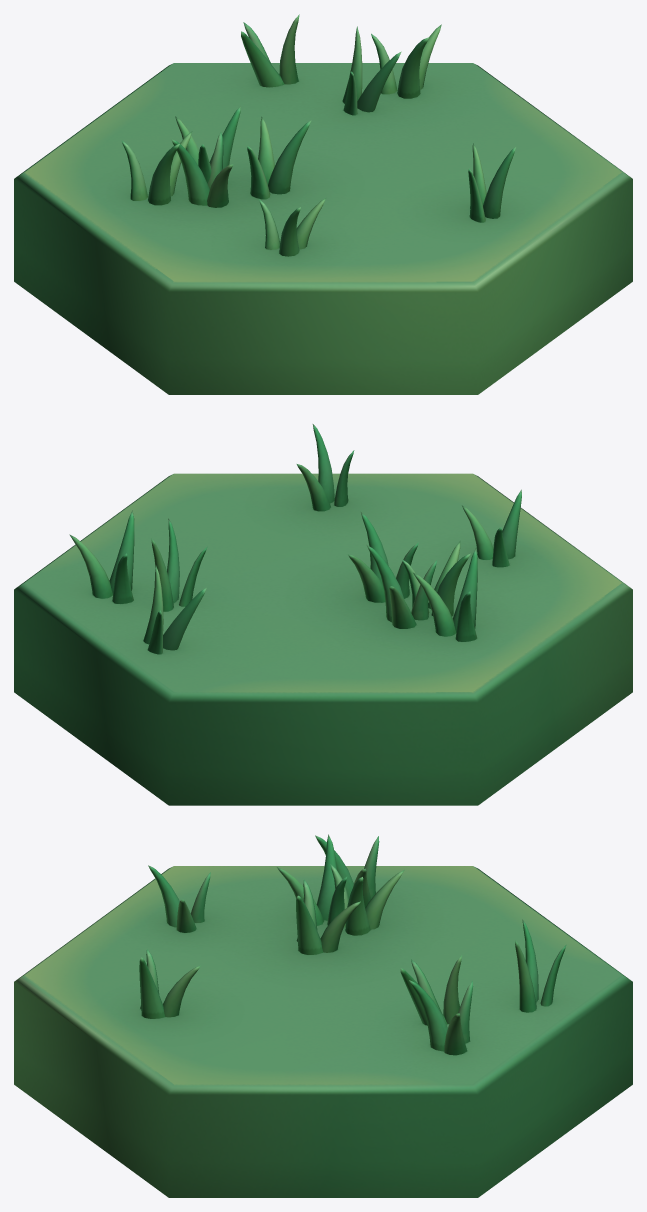
Rendered from grass.fbx.
The picture shows the model from 3 angles, top to bottom: view 1: azimuth 30°, elevation 25°; view 2: azimuth 150°, elevation 25°; view 3: azimuth 270°, elevation 25°; orthographic projection.
Visible parts, largest first — view 1: grass; view 2: grass; view 3: grass.
Boxes of the visible parts, bbox=[...] form: grass: bbox=[14, 14, 632, 394]; grass: bbox=[14, 424, 632, 805]; grass: bbox=[14, 834, 632, 1197].
Size of the model in its own units: 83.21 by 30.82 by 96.08.
Materials: 1 (1 with a texture image).
